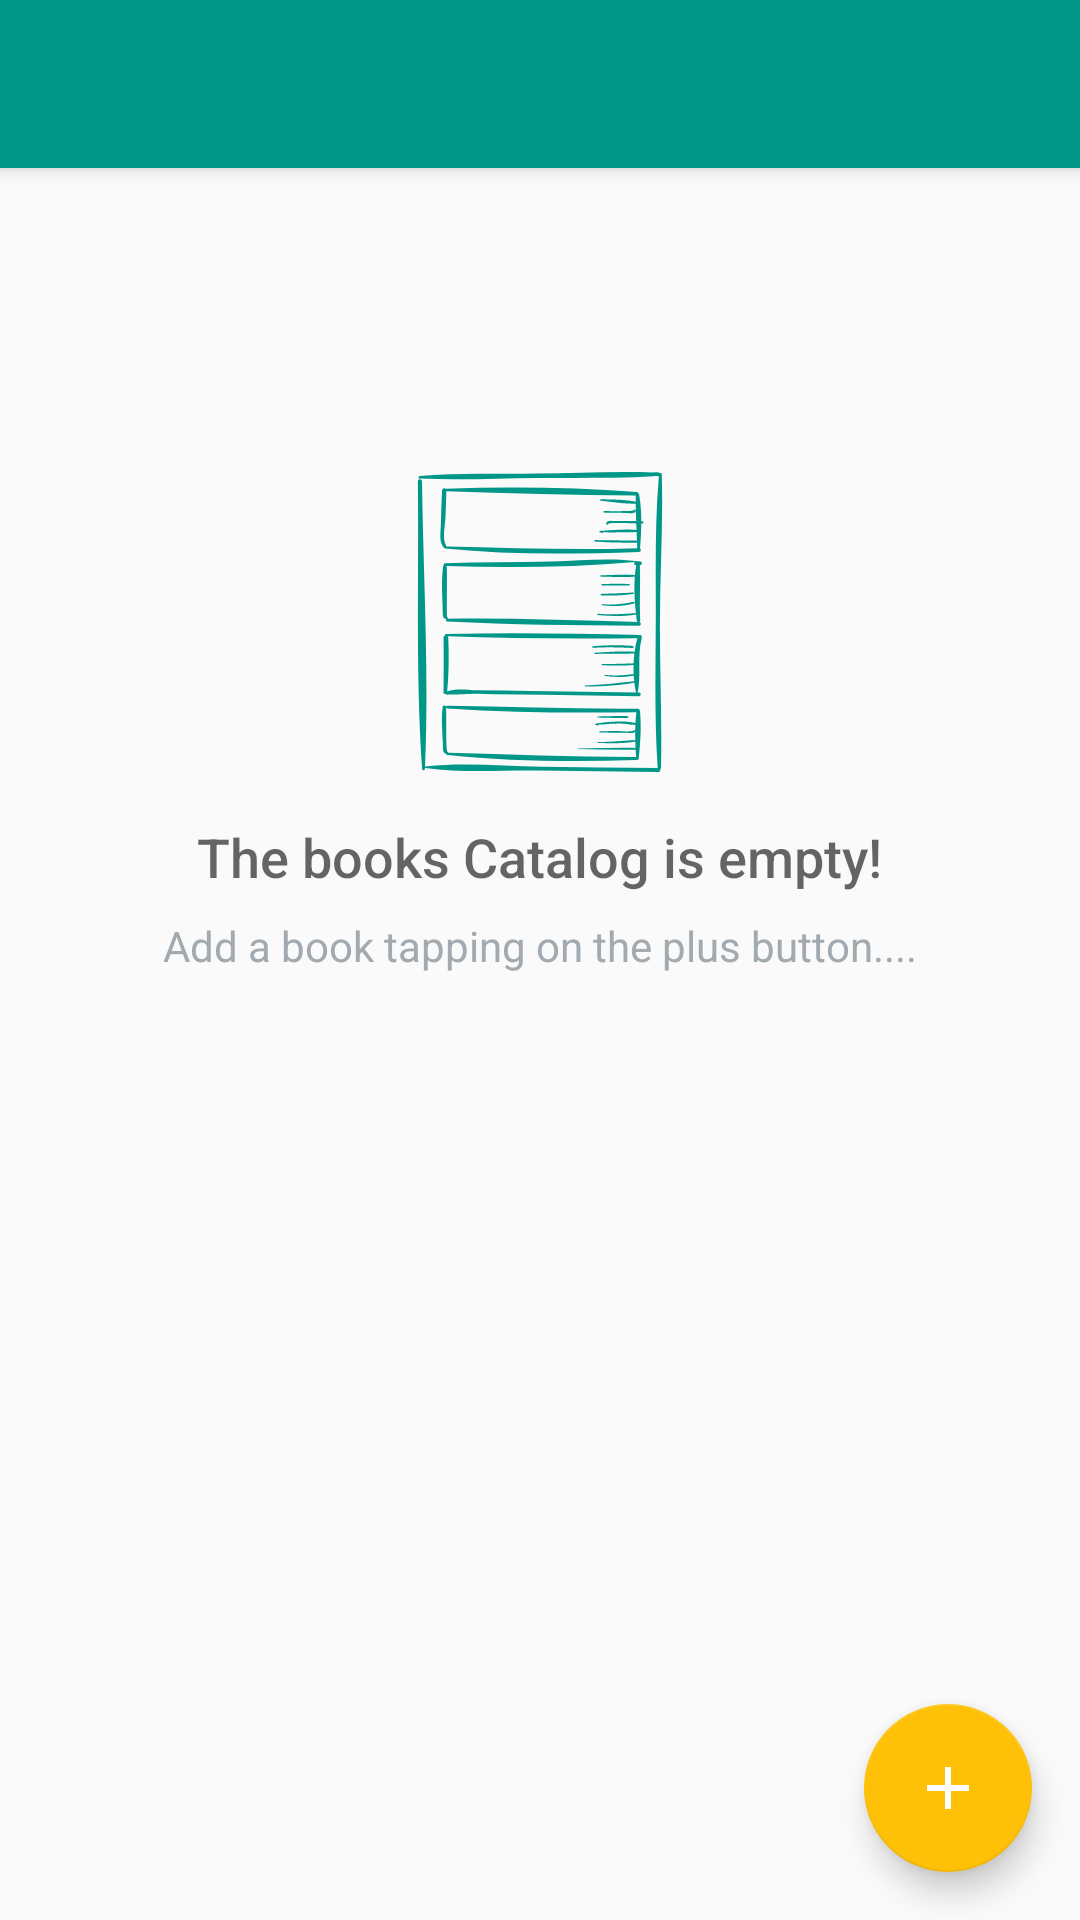

Icon click points for this 1080x1920 phone screenshot, format (x=x, y=y):
empty bookshelf: (x=540, y=622)
plus: (x=948, y=1788)
